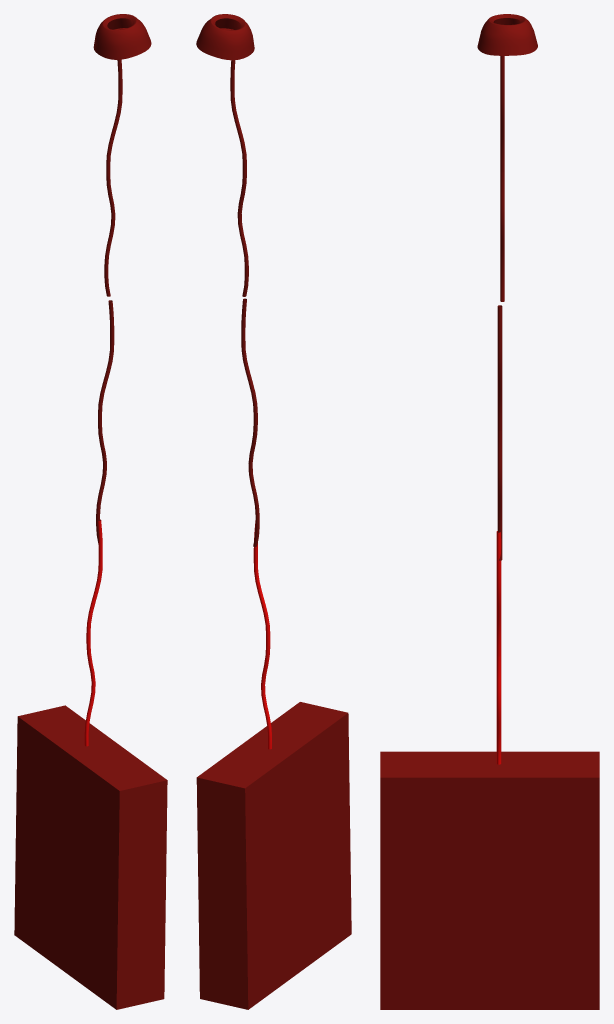
File: InsertPhone.obj
3 views of the same model, side by side, from view 1: azimuth 30°, elevation 25°; view 2: azimuth 150°, elevation 25°; view 3: azimuth 270°, elevation 25° (orthographic). The views are drawn at different scales.
Visible parts, largest first — view 1: Cube.001, pCube2.001, pCylinder2.002, pCylinder2.001, pCylinder2; view 2: Cube.001, pCube2.001, pCylinder2.001, pCylinder2.002, pCylinder2; view 3: Cube.001, pCube2.001, pCylinder2.001, pCylinder2, pCylinder2.002.
Boxes of the visible parts, x1,y1,x2,y2 form: Cube.001: (14, 705, 167, 1009); pCube2.001: (93, 14, 151, 59); pCylinder2.002: (104, 59, 122, 296); pCylinder2.001: (96, 300, 114, 544); pCylinder2: (84, 519, 102, 746); Cube.001: (196, 702, 351, 1009); pCube2.001: (196, 14, 254, 60); pCylinder2.001: (241, 298, 259, 546); pCylinder2.002: (230, 60, 248, 296); pCylinder2: (253, 520, 271, 749); Cube.001: (380, 751, 599, 1009); pCube2.001: (477, 14, 537, 55); pCylinder2.001: (497, 305, 502, 560); pCylinder2: (496, 531, 501, 764); pCylinder2.002: (500, 56, 504, 301).
Size of the model in its own units: 0.5932 by 5.88 by 1.17.
